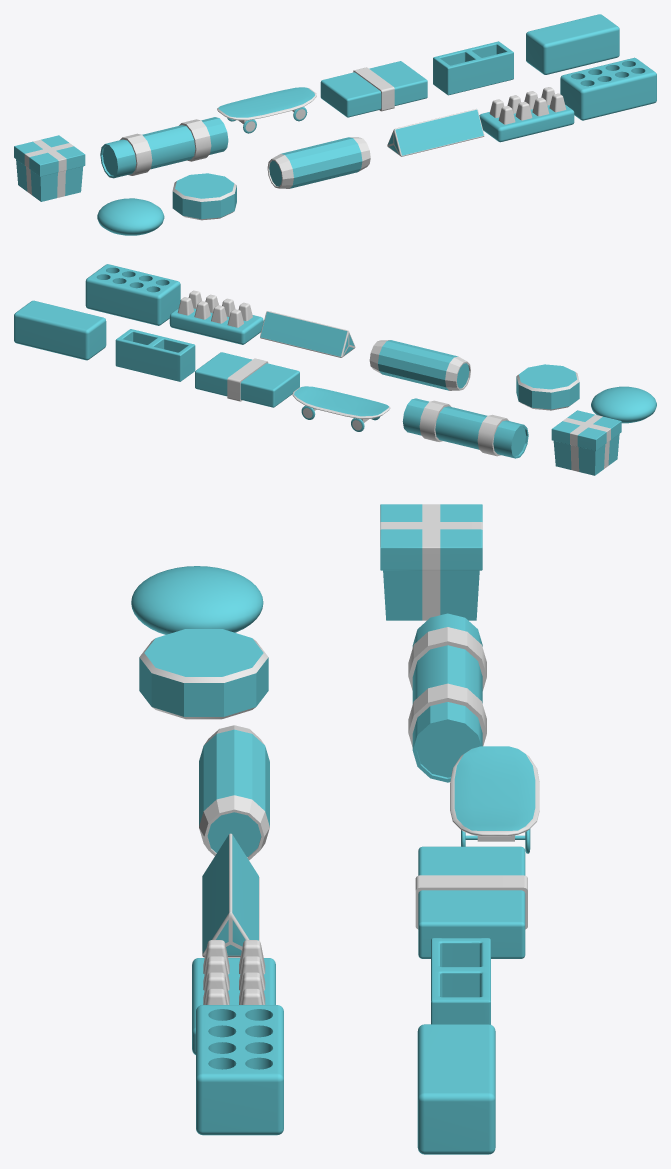
Rendered from bricks model.fbx.
3 renders of one model, top to bottom at view 1: azimuth 30°, elevation 25°; view 2: azimuth 150°, elevation 25°; view 3: azimuth 270°, elevation 25°, orthographic. The views are drawn at different scales.
Visible parts, largest first — view 1: m9, m2, m1, m5, m11, m8, m4, m3, m6, m10, m7, m12; view 2: m9, m2, m1, m5, m11, m8, m4, m3, m6, m10, m7, m12; view 3: m2, m11, m5, m9, m1, m10, m8, m7, m12, m6, m3, m4.
Part boxes in pixels (<box>): m9: <box>100,117,228,178</box>; m2: <box>560,57,656,120</box>; m1: <box>526,14,619,74</box>; m5: <box>320,61,427,117</box>; m11: <box>14,135,85,201</box>; m8: <box>267,137,370,188</box>; m4: <box>479,87,574,142</box>; m3: <box>433,41,513,95</box>; m6: <box>387,109,484,156</box>; m10: <box>172,173,236,220</box>; m7: <box>217,87,316,133</box>; m12: <box>97,198,164,235</box>; m9: <box>402,398,528,458</box>; m2: <box>85,264,180,325</box>; m1: <box>14,300,106,360</box>; m5: <box>195,352,299,407</box>; m11: <box>551,410,621,475</box>; m8: <box>369,340,470,390</box>; m4: <box>169,290,263,344</box>; m3: <box>115,329,195,381</box>; m6: <box>260,311,355,357</box>; m10: <box>516,364,579,410</box>; m7: <box>292,386,390,431</box>; m12: <box>591,386,656,423</box>; m2: <box>196,1005,283,1135</box>; m11: <box>380,504,482,620</box>; m5: <box>415,846,527,958</box>; m9: <box>408,613,486,782</box>; m1: <box>417,1024,495,1154</box>; m10: <box>139,629,268,719</box>; m8: <box>199,725,269,860</box>; m7: <box>450,746,539,853</box>; m12: <box>131,566,263,634</box>; m6: <box>202,833,259,957</box>; m3: <box>431,938,490,1024</box>; m4: <box>192,940,275,1054</box>.
Size of the model in its own units: 95.53 by 7.4 by 29.14.
